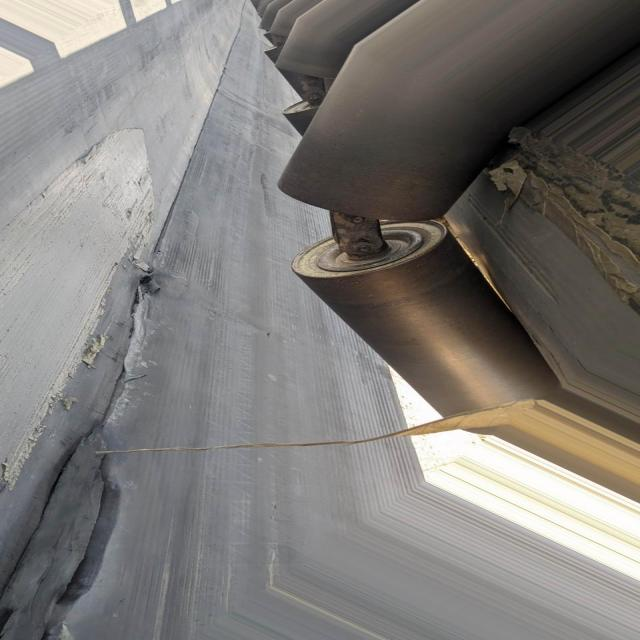Roller: (291, 220, 556, 432), (276, 47, 498, 223)
Tear: (0, 254, 146, 638)
